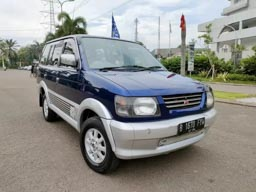plat: (177, 116, 204, 136)
